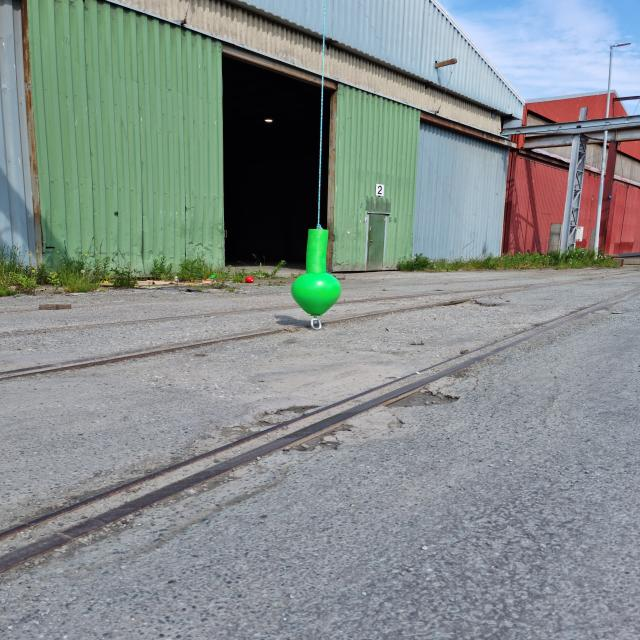green: (293, 230, 343, 317)
